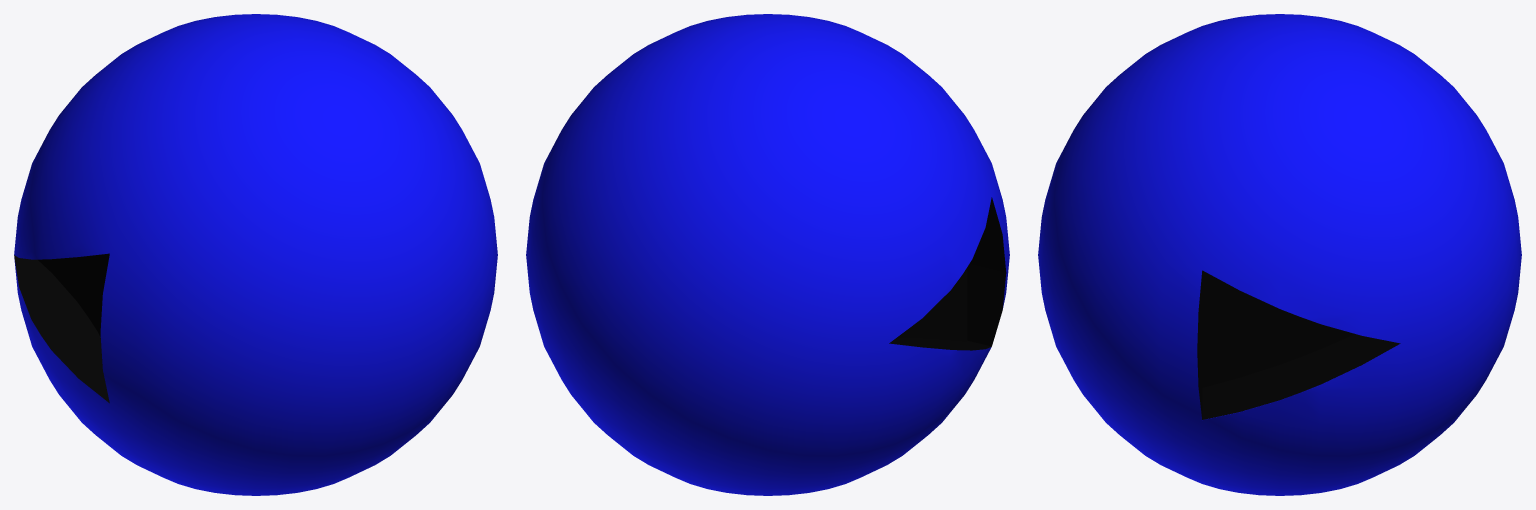
Rendered from Play_button.fbx.
3 views of the same model, side by side, from view 1: azimuth 30°, elevation 25°; view 2: azimuth 150°, elevation 25°; view 3: azimuth 270°, elevation 25° (orthographic).
Visible parts, largest first — view 1: Sphere.001; view 2: Sphere.001; view 3: Sphere.001.
Boxes of the visible parts, box(x1,y1,x2,y2) form: Sphere.001: box(14, 14, 497, 495); Sphere.001: box(526, 14, 1009, 495); Sphere.001: box(1038, 14, 1521, 495).
Bounding box in the file's own units: 196 × 200 × 200.
